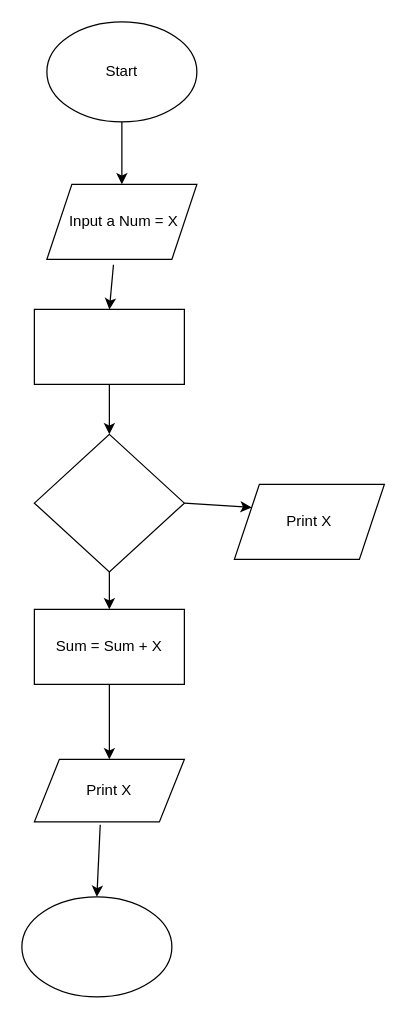
This 406x1019 diagram has some shape labels left out. Each missing label, with the centre of its shape:
"If X >= 0" belongs at point (108, 502).
"Stop" belongs at point (96, 946).
"Sum = 0" belongs at point (108, 346).
